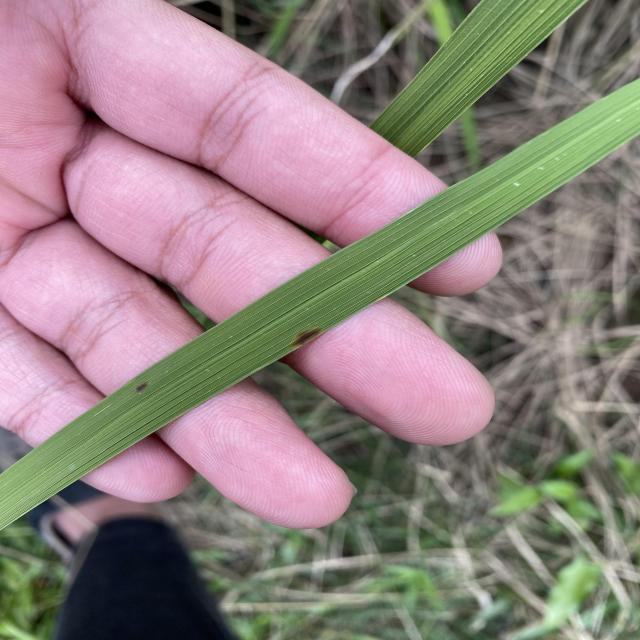Dom nau: (288, 325, 327, 350), (133, 380, 152, 395)
